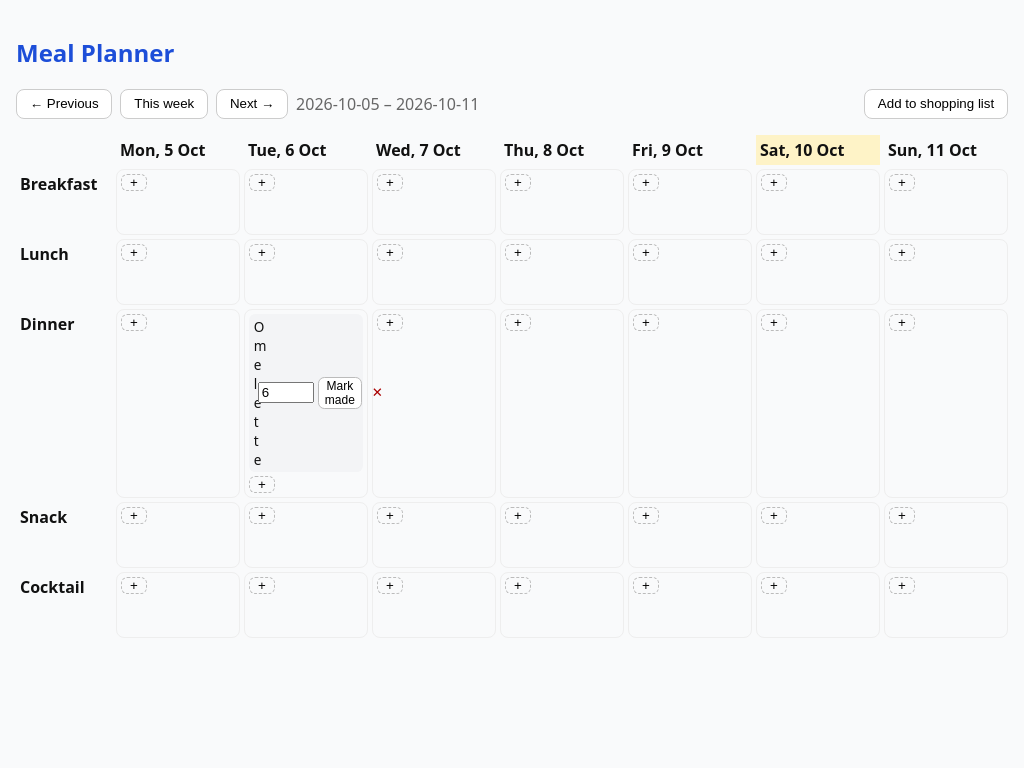
MealPlanner.vue › previews shortages for the visible week, flags mismatches and adds on confirm
The image size is (1024, 768).
Step 1. Click the button with class "shop-btn" → (936, 104), box [864,89,1008,119]
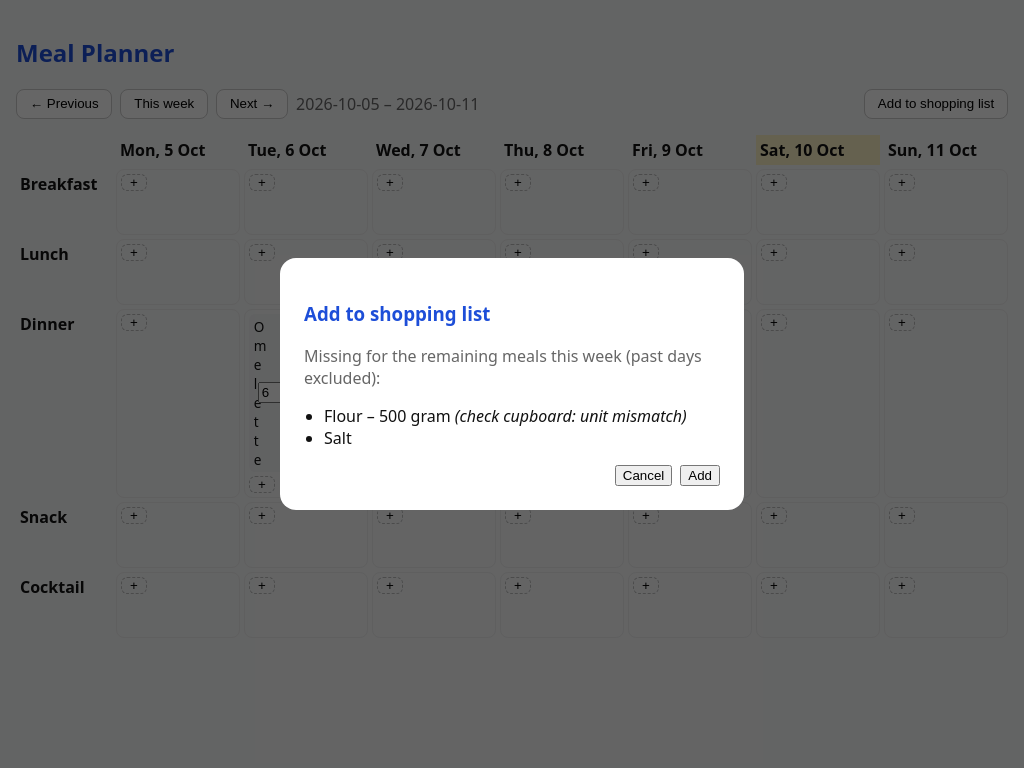
expect the list with class "shop-lines" shows "Flour – 500 gram": met, box [304,405,720,449]
expect the list with class "shop-lines" shows "check cupboard": met, box [451,405,687,427]
expect the list with class "shop-lines" shows "Salt": met, box [324,427,352,449]
Step 2. Click the button with class "confirm" → (700, 475), box [680,465,720,486]
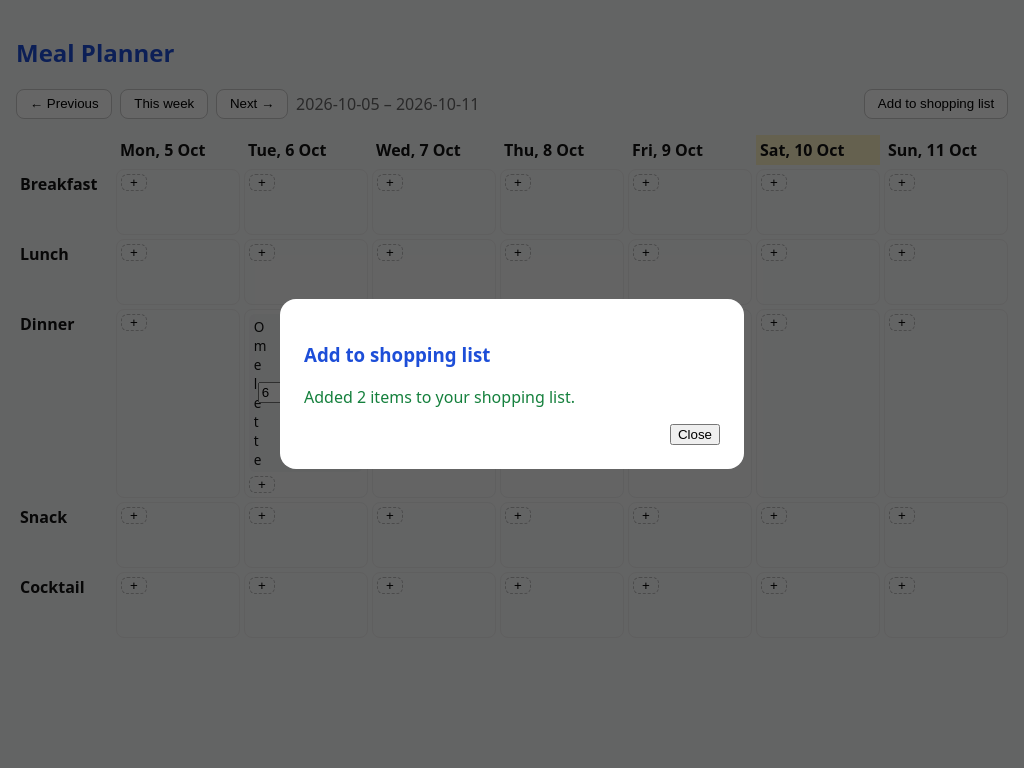
expect the message with class "done" shows "Added 2 items": met, box [304,386,575,408]
